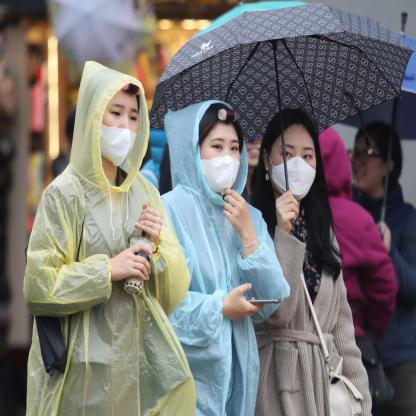Not_Wearing_Mask: (346, 140, 380, 192)
Wearing_Mask: (269, 139, 317, 201), (100, 98, 140, 169), (200, 133, 242, 194)
